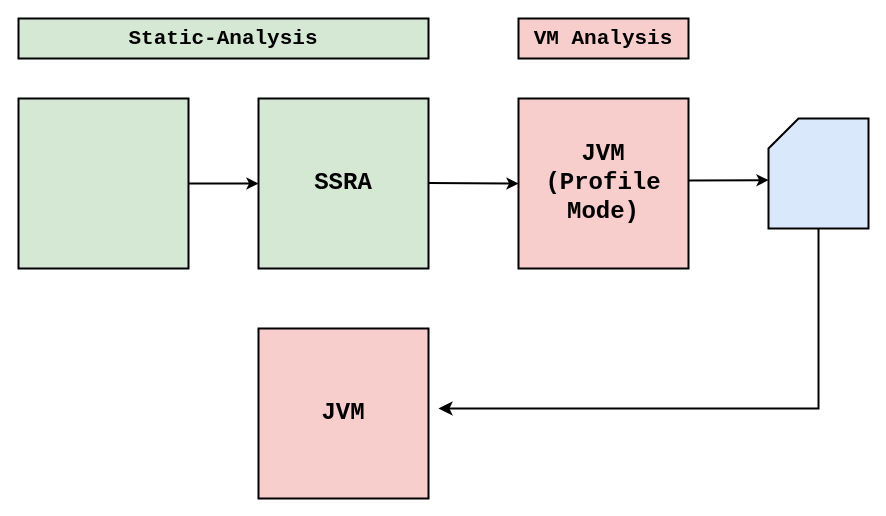
This 886x516 diagram has some shape labels left out. The centre of each missing label's shape, as x and y in pixels:
"Feedback" goes at (818,173).
"ValFinder" goes at (103,183).
